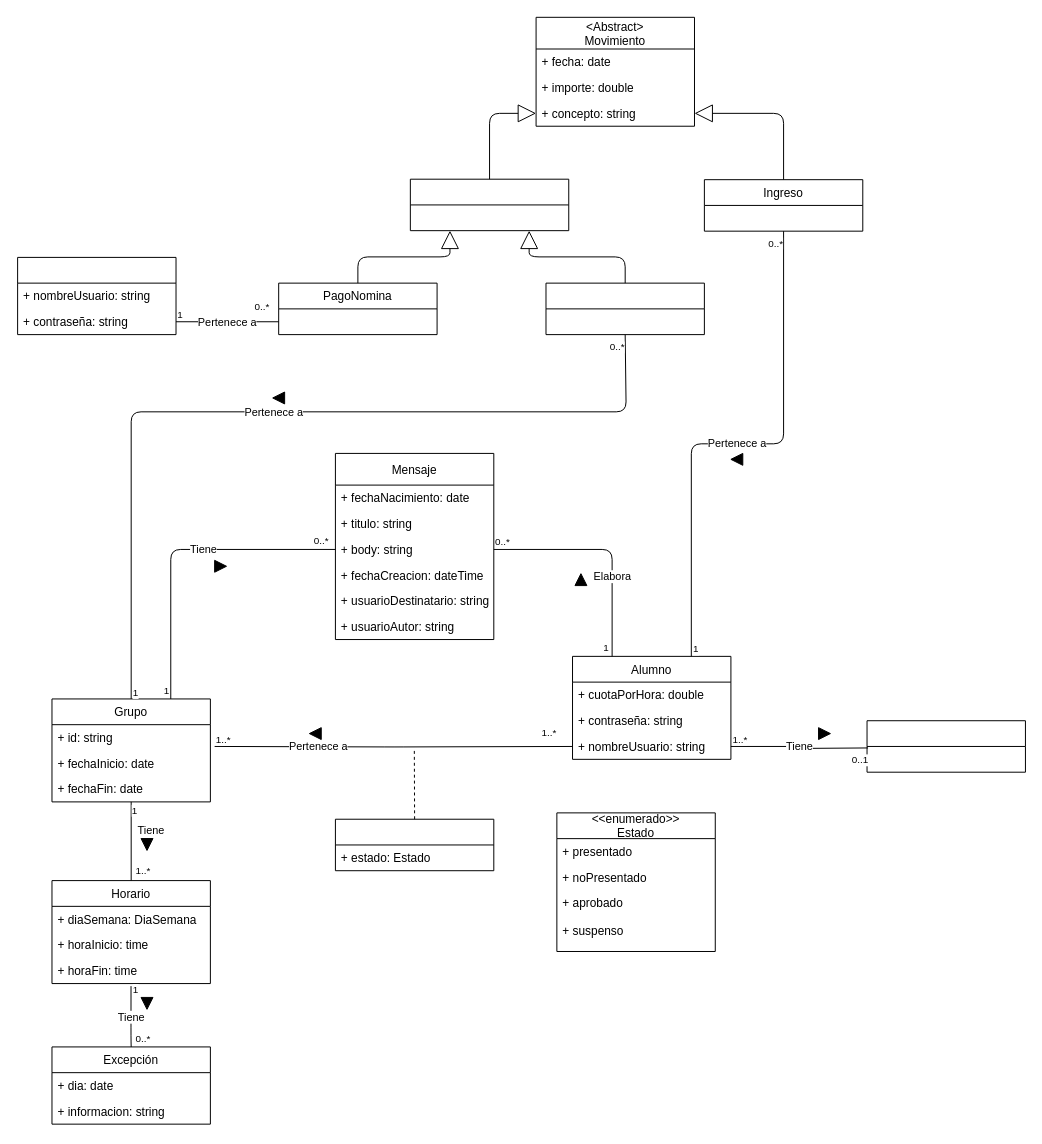
Image size: 1042x1144. Some labels were removed from this diagram. Here are the shapes that lost their labels. From the top down, the box of each, then its label:
(409, 178, 569, 231): Gasto
(17, 256, 176, 335): Profesional
(545, 282, 704, 335): GastoMantenimiento
(866, 720, 1025, 772): TutorLegal
(334, 818, 494, 871): Asignatura
